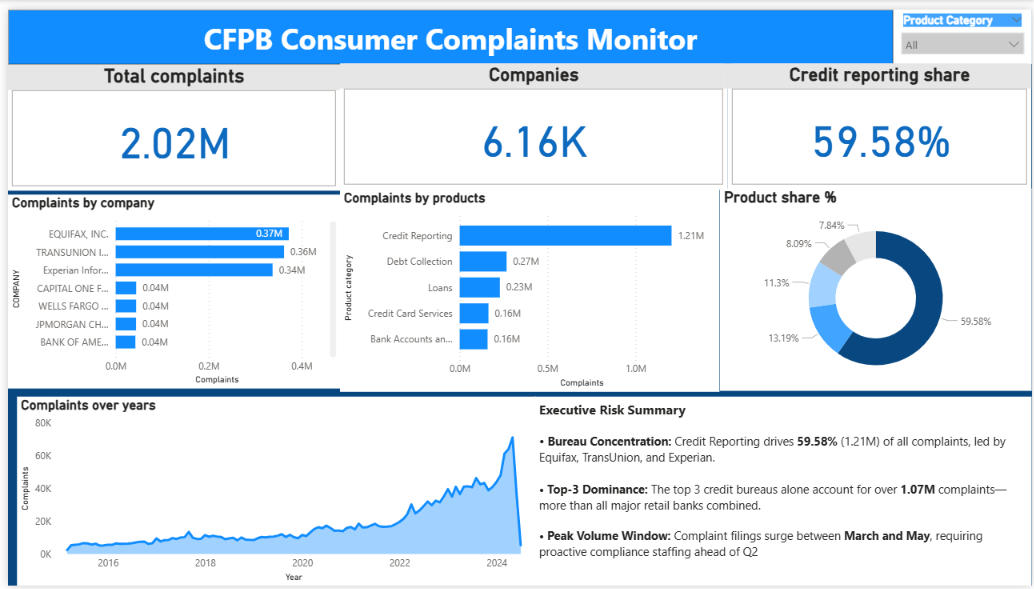

This screenshot's page, from the dashboard's own definition file:
{"tool":"powerbi","page":{"name":"Page 1","canvas":[1280,720],"ordinal":0},"visuals":[{"type":"cardVisual","title":"Total complaints","fields":{"Data":["Sum(GOLD_COMPLAINTS_BY_COMPANY_PRODUCT_CLEAN.DISTINCT_COMPLAINTS)"]},"box":[0,69.3,415.5,157.3],"z":0},{"type":"clusteredBarChart","title":"Complaints by products","fields":{"Category":["GOLD_COMPLAINTS_BY_COMPANY_PRODUCT_CLEAN.PRODUCT_5"],"Y":["Sum(GOLD_COMPLAINTS_BY_COMPANY_PRODUCT_CLEAN.DISTINCT_COMPLAINTS)"]},"box":[415.5,225.1,474.7,252.5],"z":1},{"type":"areaChart","title":"Complaints over years","fields":{"Category":["GOLD_COMPLAINTS_BY_MONTH_PRODUCT_CLEAN.COMPLAINT_MONTH.Variation.Date Hierarchy.Year","GOLD_COMPLAINTS_BY_MONTH_PRODUCT_CLEAN.COMPLAINT_MONTH.Variation.Date Hierarchy.Quarter","GOLD_COMPLAINTS_BY_MONTH_PRODUCT_CLEAN.COMPLAINT_MONTH.Variation.Date Hierarchy.Month","GOLD_COMPLAINTS_BY_MONTH_PRODUCT_CLEAN.COMPLAINT_MONTH.Variation.Date Hierarchy.Day"],"Y":["Sum(GOLD_COMPLAINTS_BY_MONTH_PRODUCT_CLEAN.DISTINCT_COMPLAINTS)"]},"box":[10.7,484.1,647.8,236.7],"z":2},{"type":"clusteredBarChart","title":"Complaints by company","fields":{"Category":["GOLD_COMPLAINTS_BY_COMPANY_PRODUCT_CLEAN.COMPANY"],"Y":["Sum(GOLD_COMPLAINTS_BY_COMPANY_PRODUCT_CLEAN.DISTINCT_COMPLAINTS)"]},"box":[0,230.8,415.5,242.4],"z":3},{"type":"slicer","fields":{"Values":["GOLD_COMPLAINTS_BY_COMPANY_PRODUCT_CLEAN.PRODUCT_5"]},"box":[1106.2,0,173.8,68.3],"z":4},{"type":"shape","box":[0,0,1106.2,68.3],"z":5},{"type":"cardVisual","title":"Companies","fields":{"Data":["Count(GOLD_COMPLAINTS_BY_COMPANY_PRODUCT_CLEAN.COMPANY)"]},"box":[415.5,67.8,484.8,157.3],"z":6},{"type":"cardVisual","title":"Credit reporting share","fields":{"Data":["GOLD_COMPLAINTS_BY_MONTH_PRODUCT_CLEAN.Credit Reporting Share %"]},"box":[900.3,67.8,379.4,157.3],"z":7},{"type":"donutChart","title":"Product share %","fields":{"Category":["GOLD_COMPLAINTS_BY_MONTH_PRODUCT_CLEAN.PRODUCT_5"],"Y":["Sum(GOLD_COMPLAINTS_BY_MONTH_PRODUCT_CLEAN.DISTINCT_COMPLAINTS)"]},"box":[889.9,224.3,389.8,252.7],"z":8},{"type":"textbox","box":[658.5,484.1,621.1,236.7],"z":9}]}

Visuals, with their boxes in screenshot pixels (x1, y1, x2, y2), scaled from the page's 1280x720 canvas onto the 1034x589 screenshot:
"Total complaints" cardVisual: 0/57/336/185
"Complaints by products" clusteredBarChart: 336/184/719/391
"Complaints over years" areaChart: 9/396/532/588
"Complaints by company" clusteredBarChart: 0/189/336/387
slicer - GOLD_COMPLAINTS_BY_COMPANY_PRODUCT_CLEAN.PRODUCT_5: 894/0/1033/56
shape: 0/0/894/56
"Companies" cardVisual: 336/55/727/184
"Credit reporting share" cardVisual: 727/55/1033/184
"Product share %" donutChart: 719/183/1033/390
textbox: 532/396/1033/588
